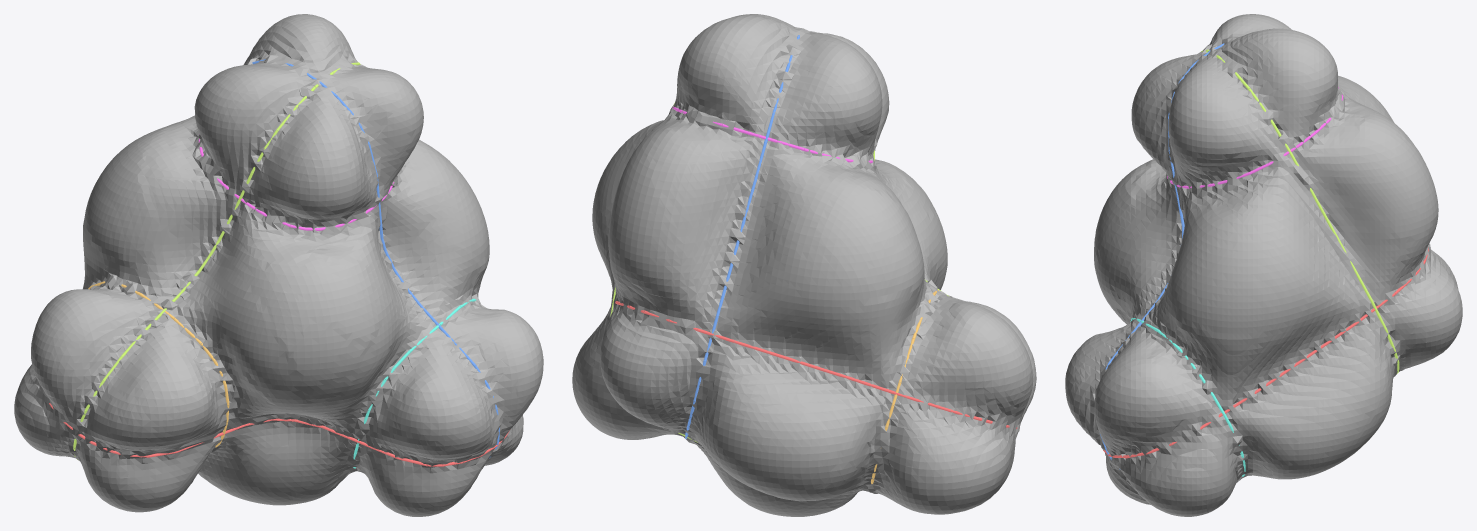
The model's file is flowrep_trebol.gltf.
3 renders of one model, left to right at view 1: azimuth 30°, elevation 25°; view 2: azimuth 150°, elevation 25°; view 3: azimuth 270°, elevation 25°, orthographic. The views are drawn at different scales.
Bounding box in the file's own units: 0.6797 × 0.6908 × 0.5556.
